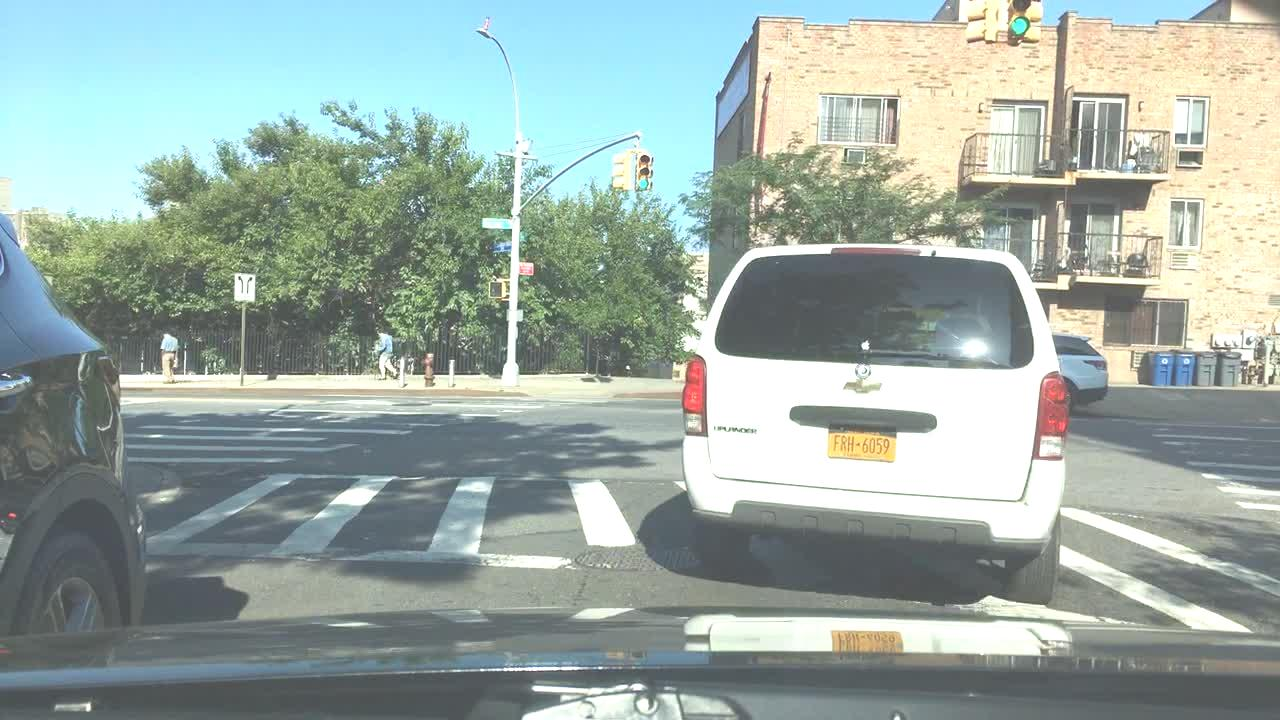chevrolet: (837, 373, 890, 404)
